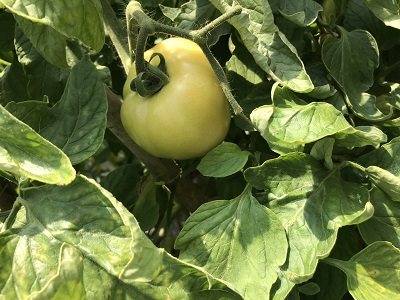immature-tomato: (120, 36, 231, 159)
